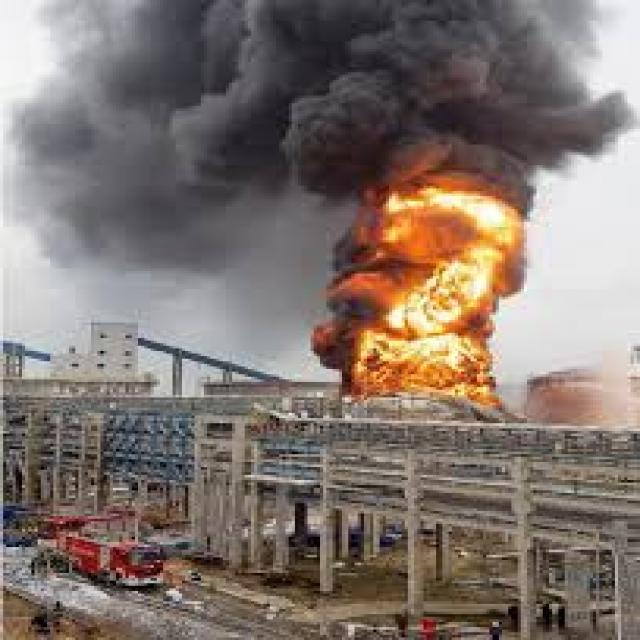fire: (329, 186, 524, 418)
smoke: (3, 2, 640, 300)
